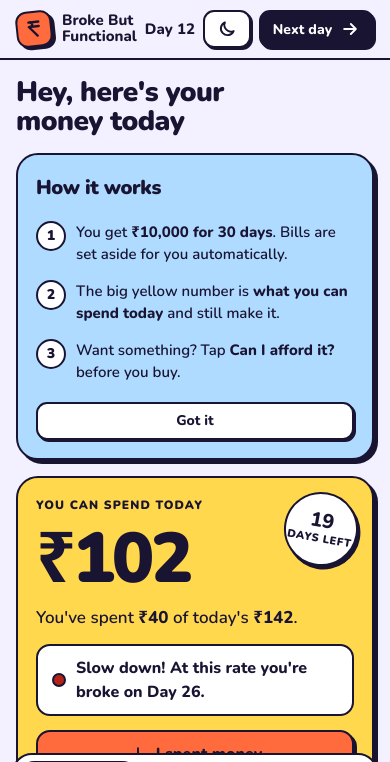
Test: Today › moves to the next day and reports auto-paid bills
Click the button "Next day". click: (316, 29)
box: [259, 10, 374, 48]
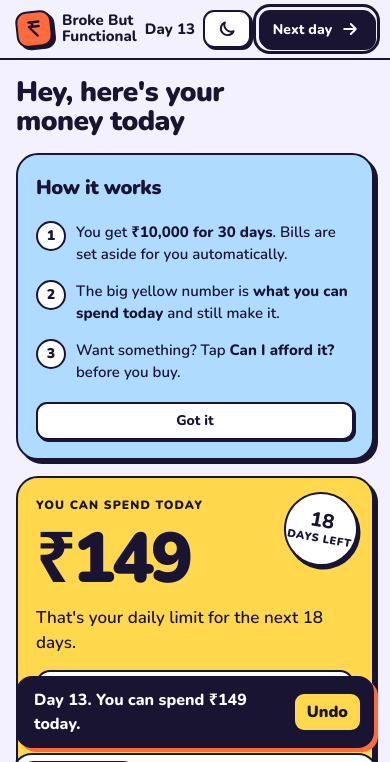
Check: the text "Day 13" is shown, box [145, 18, 195, 40]
Check: the message shows "Day 13.", box [34, 689, 247, 735]
